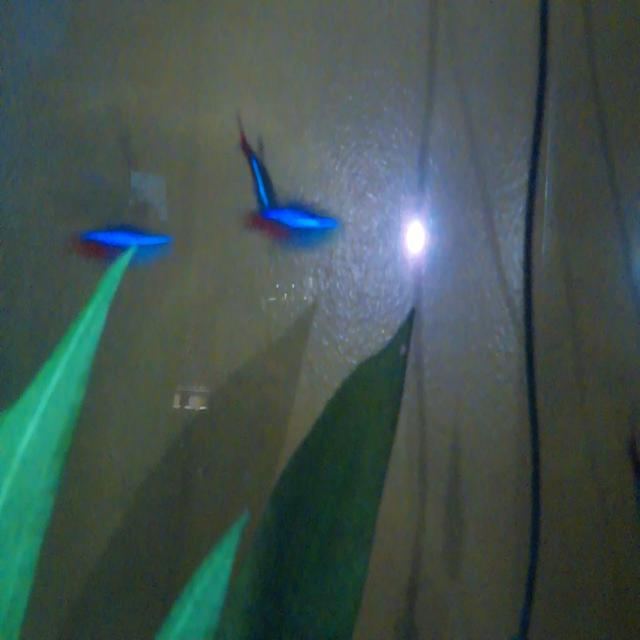fish: (227, 184, 352, 263), (55, 218, 177, 275)
